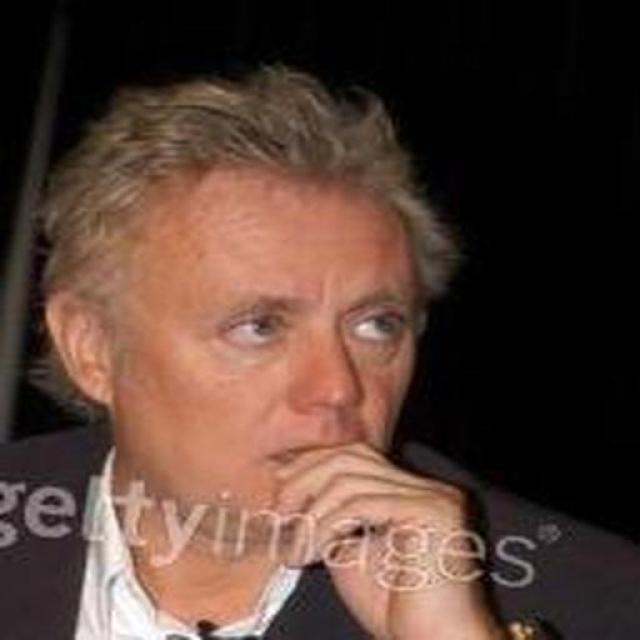bareface: (57, 74, 424, 544)
